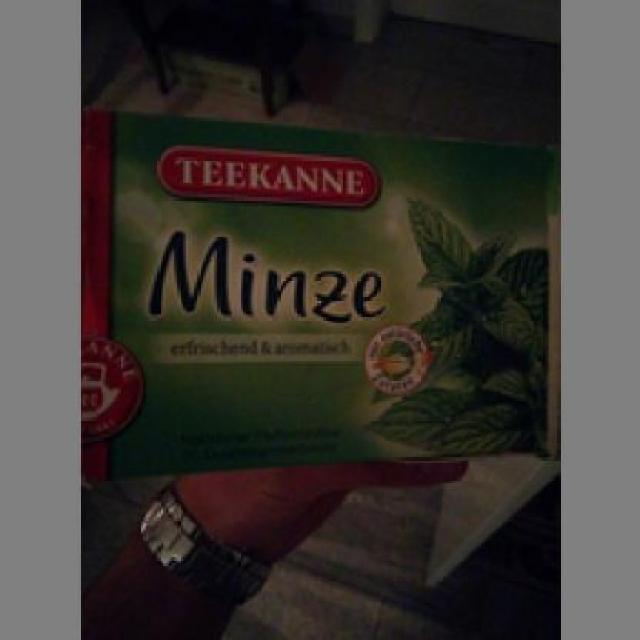Tea: (79, 106, 552, 483)
